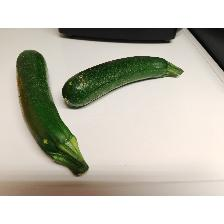Zucchini: (14, 48, 90, 180), (62, 55, 185, 107)
